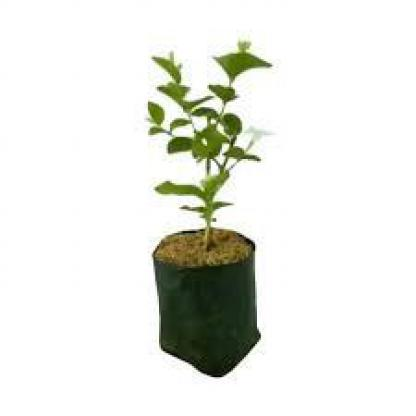Melati: (225, 103, 284, 156)
